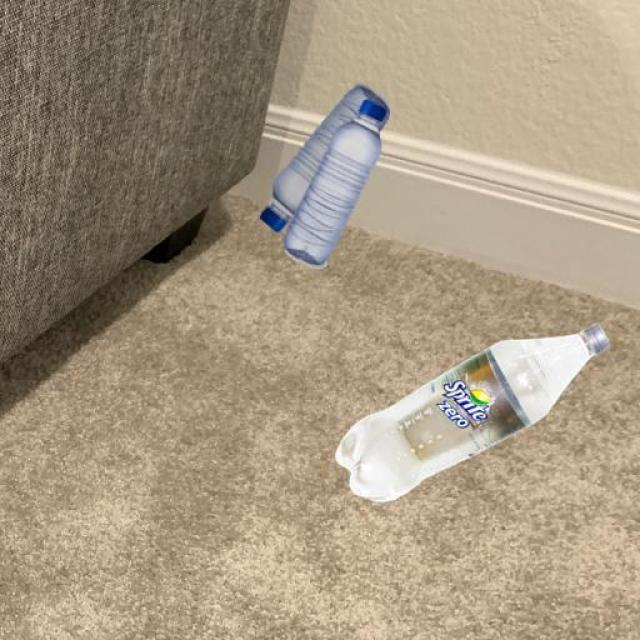bottle: (326, 321, 616, 511), (279, 92, 396, 274), (256, 78, 374, 227)
